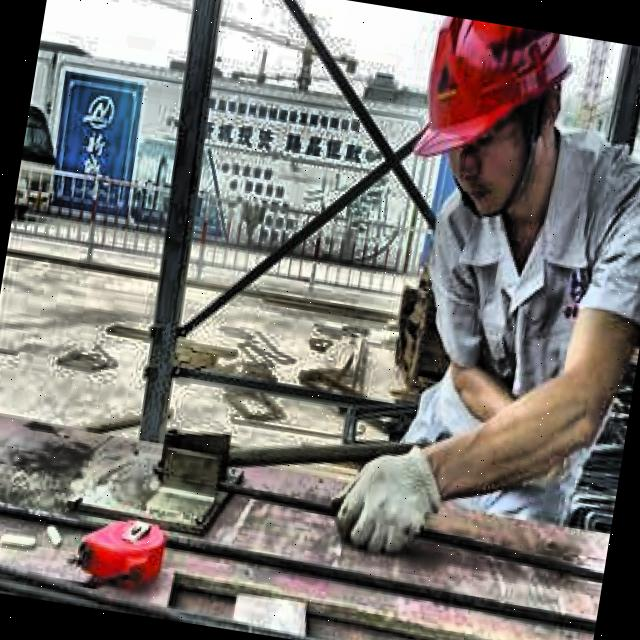helmet: (384, 13, 586, 240)
